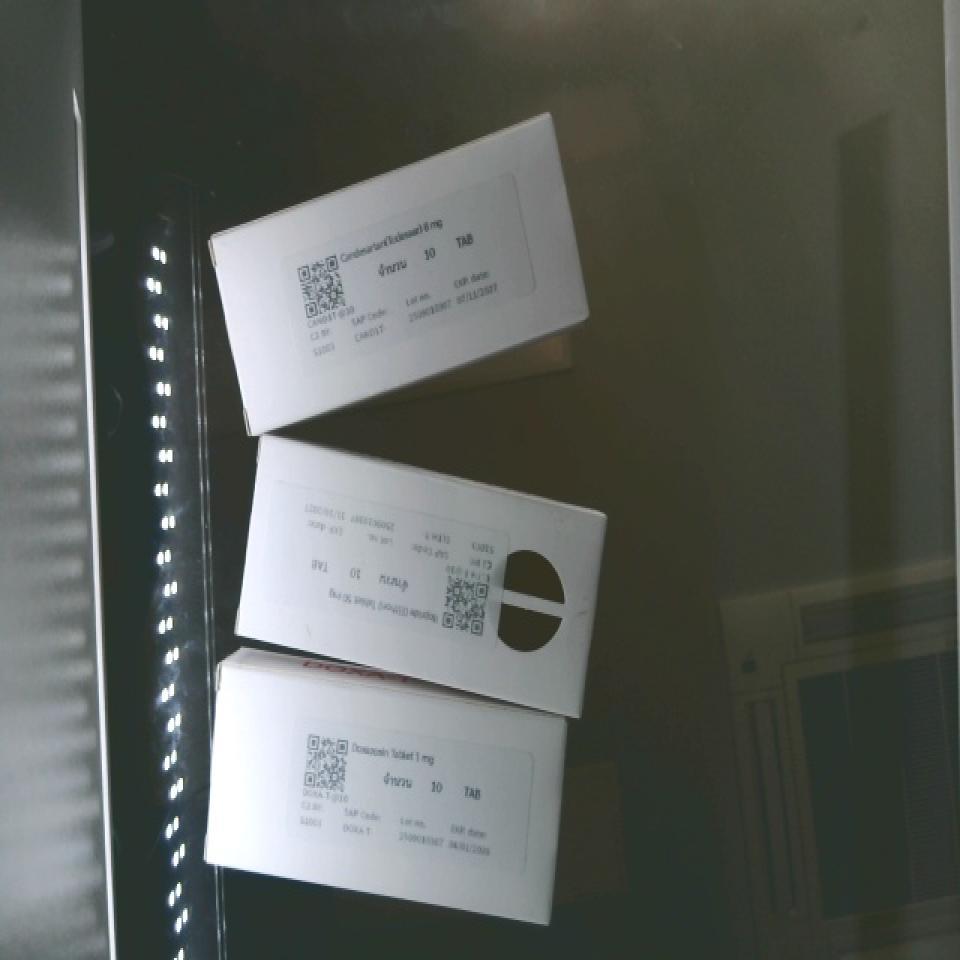medicine_box: (179, 109, 615, 438), (221, 438, 626, 719), (188, 660, 582, 923)
qr_code: (279, 234, 364, 342), (423, 555, 513, 655), (290, 717, 362, 806)
